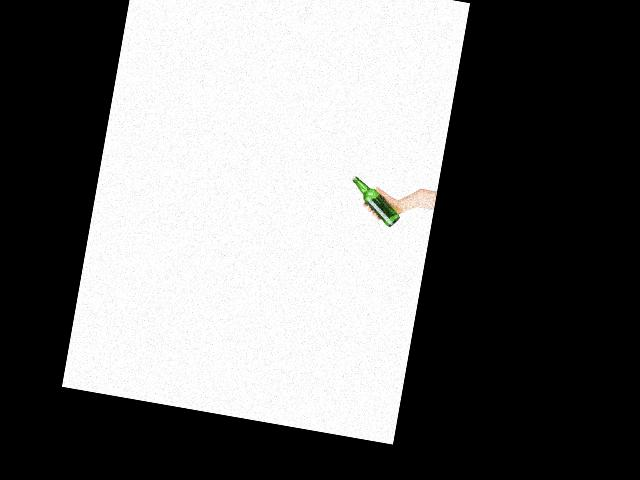beer: (346, 174, 407, 228)
